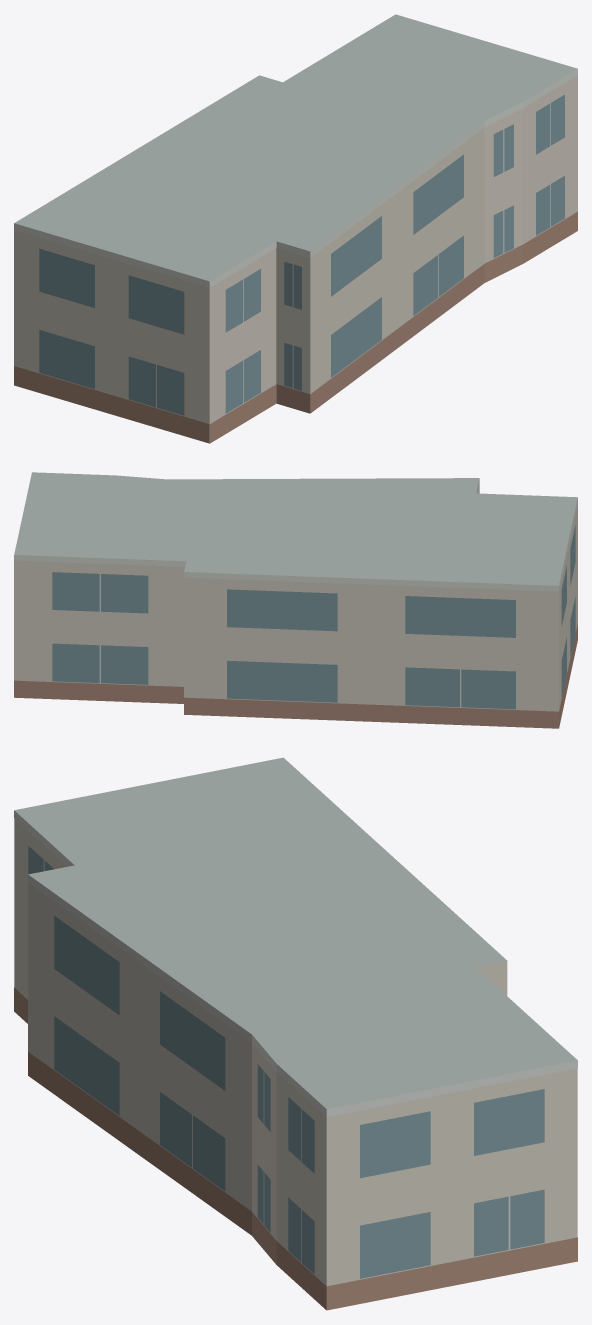
File: survey-upis-32836445.glb
3 renders of one model, top to bottom at view 1: azimuth 30°, elevation 25°; view 2: azimuth 150°, elevation 25°; view 3: azimuth 270°, elevation 25°, orthographic. The views are drawn at different scales.
Parts seen in each view (by area): view 1: survey-upis-32836445.tmp; view 2: survey-upis-32836445.tmp; view 3: survey-upis-32836445.tmp.
Boxes of the visible parts, x1,y1,x2,y2 form: survey-upis-32836445.tmp: (14,14,577,443); survey-upis-32836445.tmp: (14,472,577,728); survey-upis-32836445.tmp: (14,757,577,1310).
Size of the model in its own units: 22.88 by 6.1 by 15.5.
